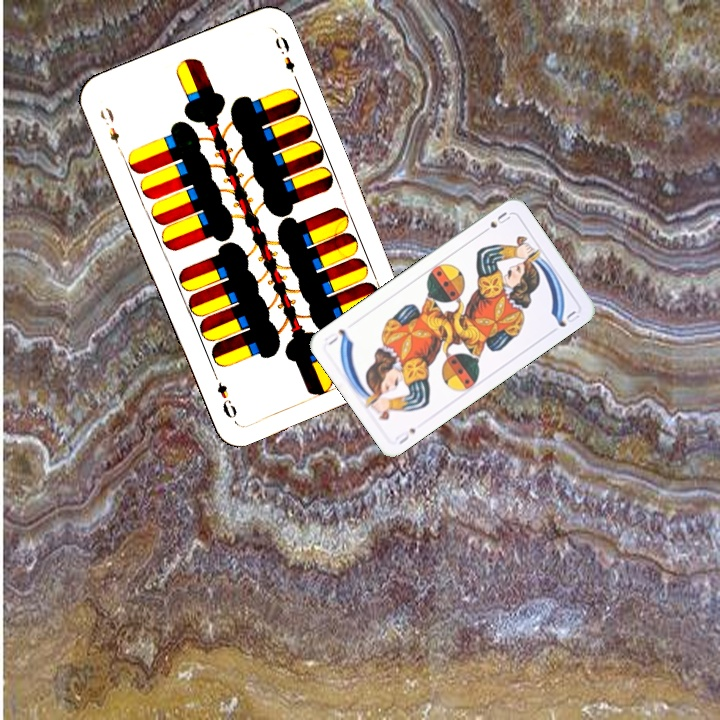E9: (95, 103, 122, 145)
SU: (477, 208, 513, 237), (391, 424, 418, 447)
